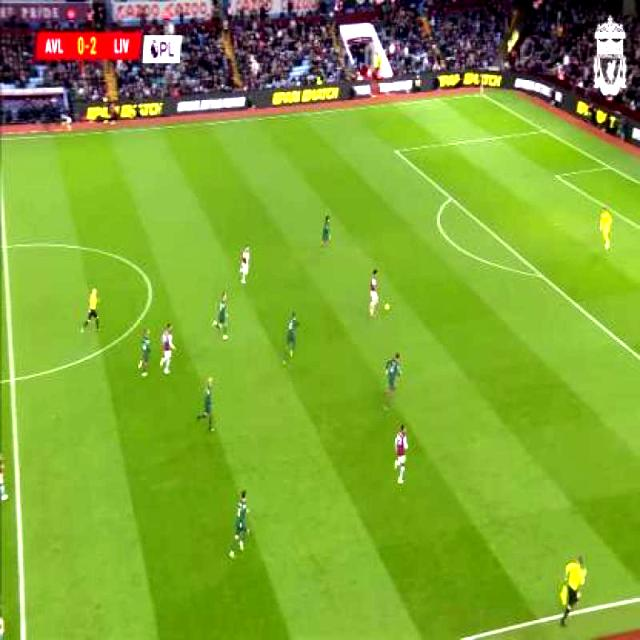bigarea_top_inner: (392, 146, 402, 159)
bigarea_top_outter: (541, 126, 549, 137)
bottom_arc_area_intersection: (536, 268, 546, 282)
corner: (477, 91, 486, 99)
halfcircle_bottom: (5, 363, 22, 395)
halfcircle_top: (0, 237, 10, 255)
smallarea_top_inner: (554, 171, 563, 181)
smallarea_top_outter: (606, 163, 612, 170)
top_arc_area_intersection: (446, 192, 456, 205)
